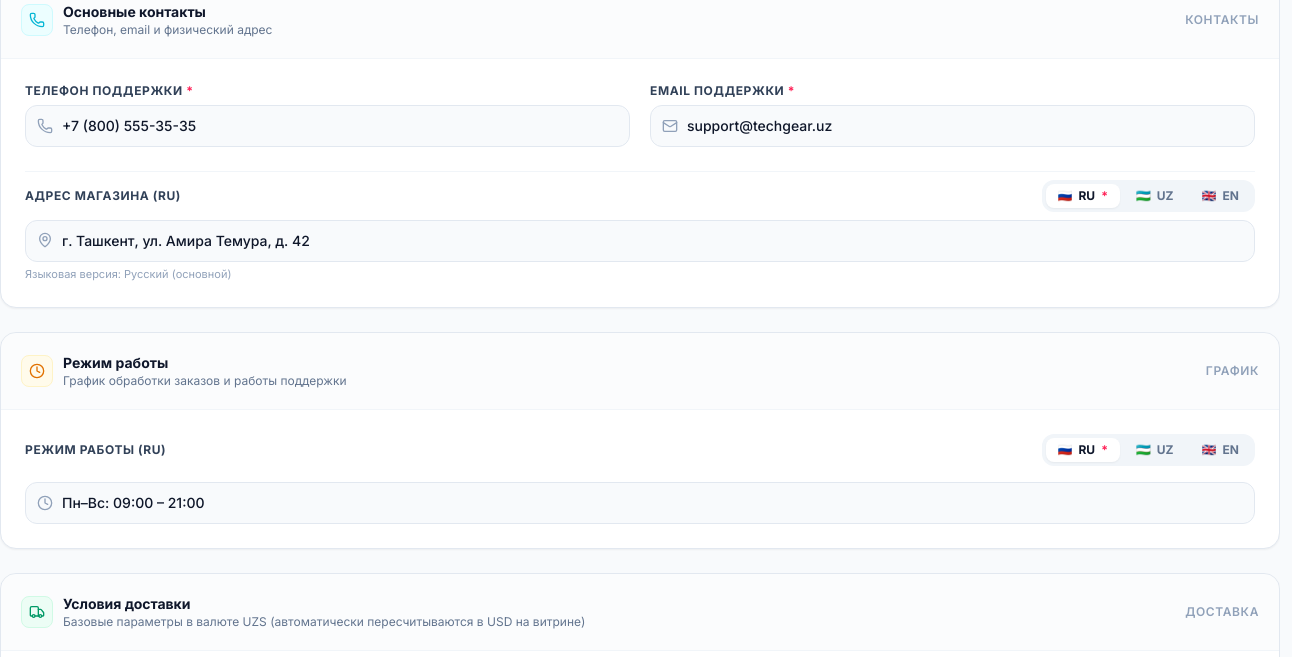
Test case: ShopSettingsForm Component › renders form with initial settings and supports language tab switching
Expected: the field labelled "Телефон поддержки *" holds "+7 (800) 555-35-35", left=25, top=105, right=630, bottom=147
Expected: the field labelled "Email поддержки *" holds "support@techgear.uz", left=650, top=105, right=1255, bottom=147
Click the button "🇺🇿 UZ" in the row of "Адрес магазина (" at [1155, 196], box left=1124, top=184, right=1186, bottom=208
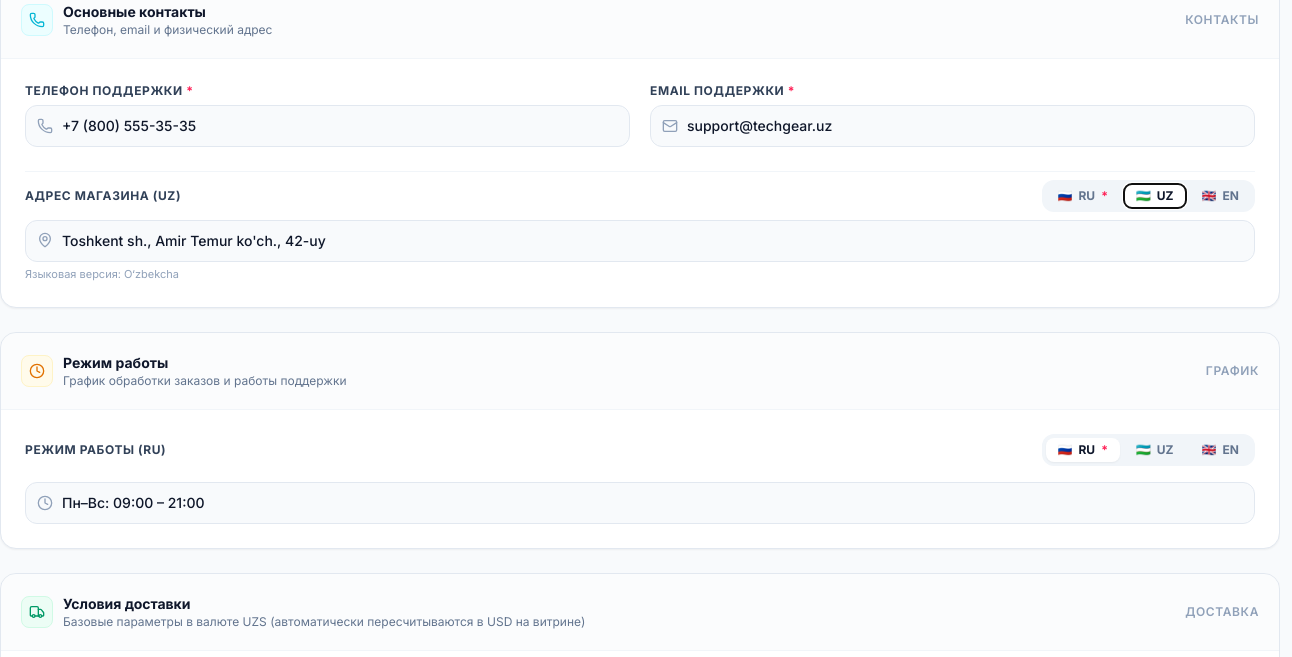
Click the button "🇺🇿 UZ" in the row of "Режим работы (" at [1155, 450], box left=1124, top=438, right=1186, bottom=462
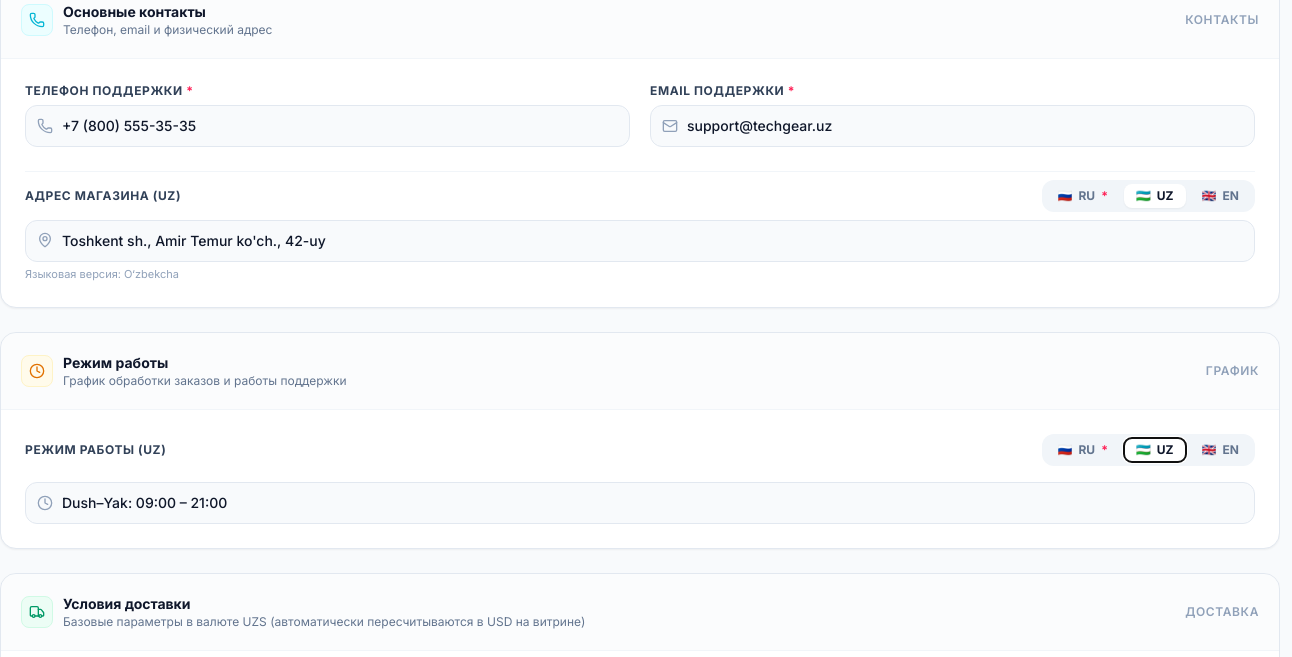
Expected: the field labelled "Адрес магазина (UZ)" holds "Toshkent sh., Amir Temur ko'ch., 42-uy", left=25, top=220, right=1255, bottom=262
Expected: the field labelled "Режим работы (UZ)" holds "Dush–Yak: 09:00 – 21:00", left=25, top=482, right=1255, bottom=524
Click the button "🇬🇧 EN" in the row of "Адрес магазина (" at [1220, 196], box left=1190, top=184, right=1251, bottom=208
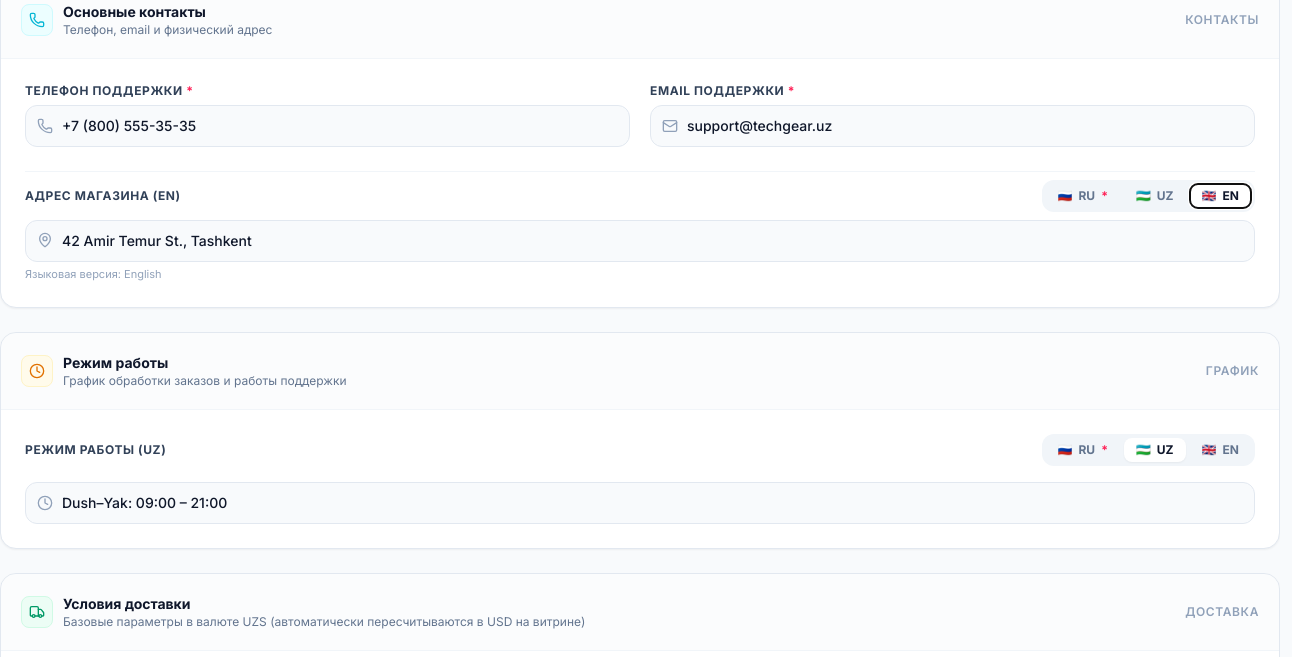
Click the button "🇬🇧 EN" in the row of "Режим работы (" at [1220, 450], box left=1190, top=438, right=1251, bottom=462
(page scrolled)
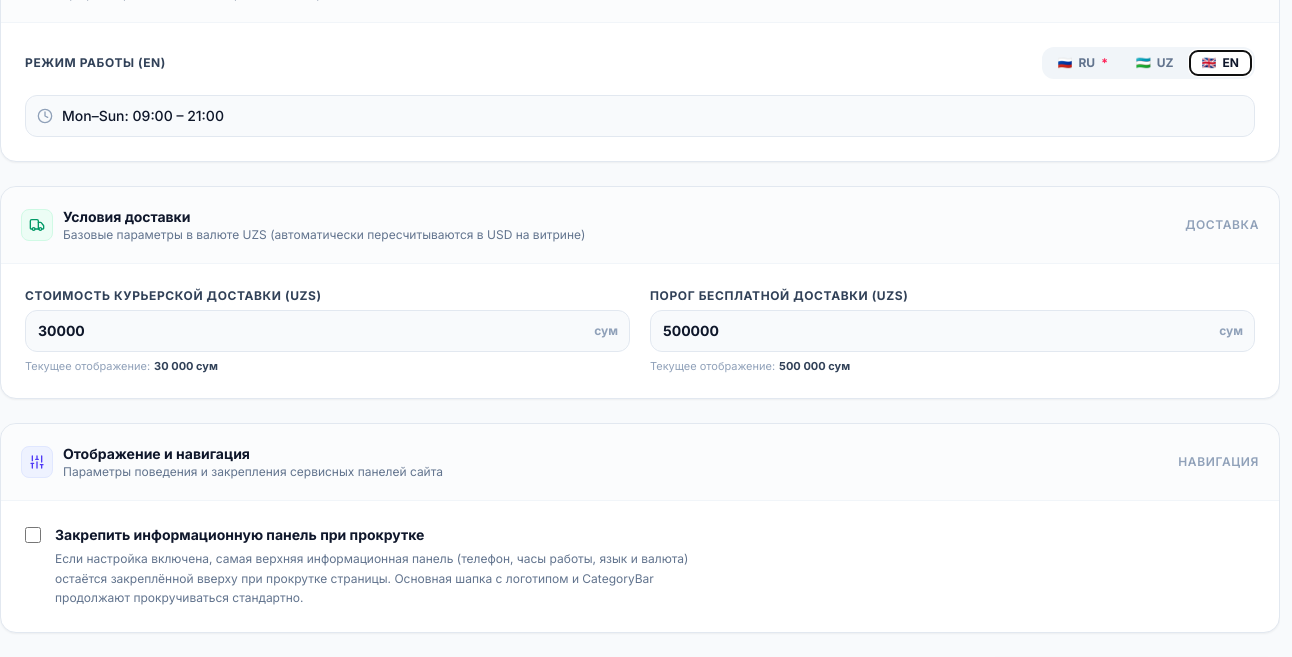
Expected: the number field labelled "Стоимость курьерской доставки (UZS)" holds "30000", left=25, top=310, right=630, bottom=352
Expected: the field labelled "Режим работы (EN)" holds "Mon–Sun: 09:00 – 21:00", left=25, top=94, right=1255, bottom=136
